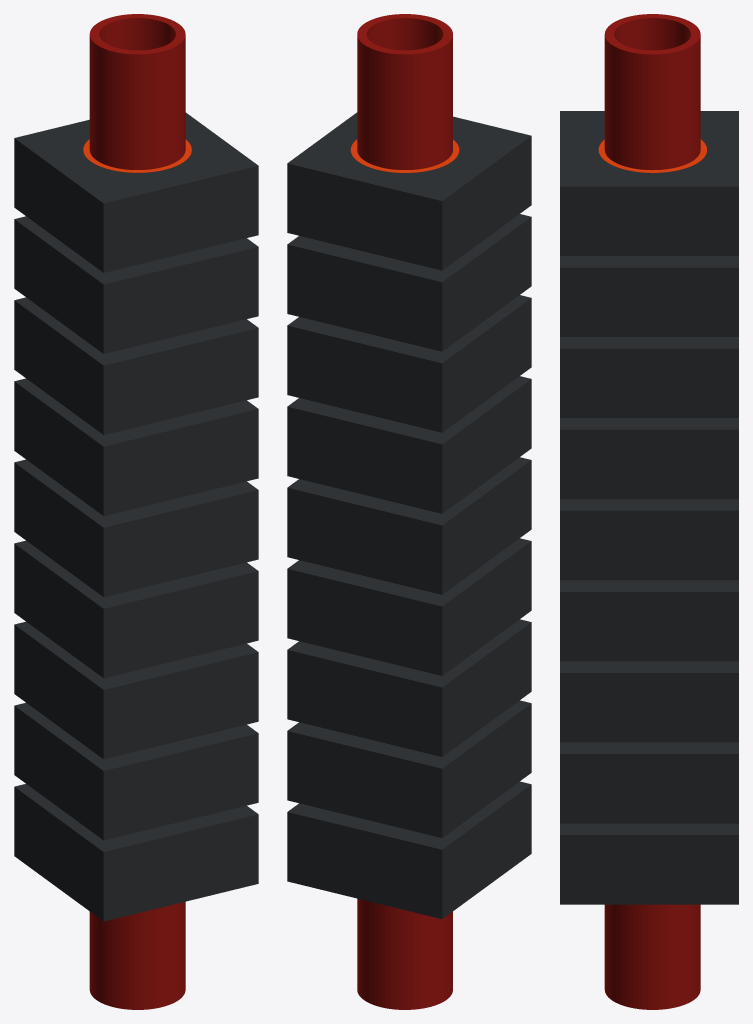
The model's file is tinker.obj.
The picture shows the model from 3 angles, left to right: view 1: azimuth 30°, elevation 25°; view 2: azimuth 150°, elevation 25°; view 3: azimuth 270°, elevation 25°; orthographic projection.
Visible parts, largest first — view 1: group_0_2829873, group_0_9835020, group_0_15548167; view 2: group_0_2829873, group_0_9835020, group_0_15548167; view 3: group_0_2829873, group_0_9835020, group_0_15548167.
Part boxes in pixels (x1,y1,x2,y2): group_0_2829873: [14, 112, 258, 921]; group_0_9835020: [89, 14, 185, 1009]; group_0_15548167: [83, 139, 191, 172]; group_0_2829873: [287, 112, 531, 918]; group_0_9835020: [357, 14, 452, 1009]; group_0_15548167: [350, 139, 459, 172]; group_0_2829873: [560, 111, 738, 904]; group_0_9835020: [604, 14, 700, 1009]; group_0_15548167: [598, 139, 706, 172].
Size of the model in its own units: 28 by 165 by 28.
